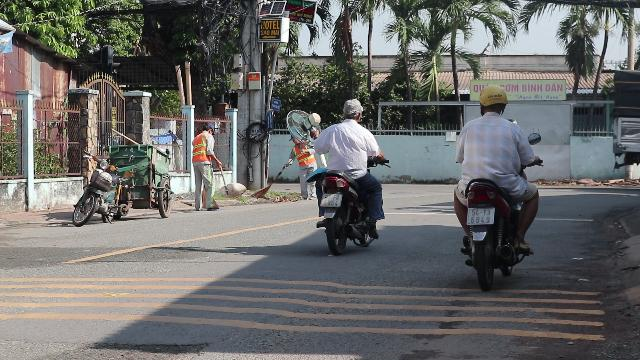helmet: (478, 84, 508, 116)
licenseplate: (467, 208, 493, 224), (321, 194, 342, 207)
motorcyclist: (448, 83, 542, 282), (306, 97, 386, 253)
nohelmet: (341, 98, 364, 122)
